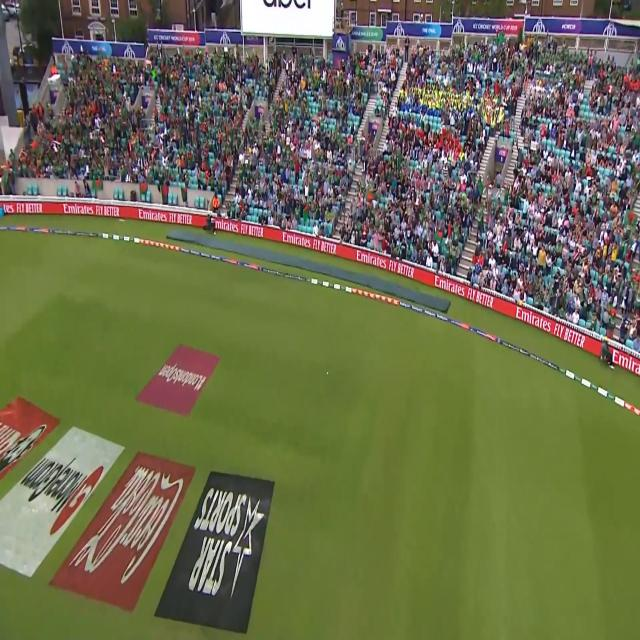ball: (322, 359, 333, 387)
